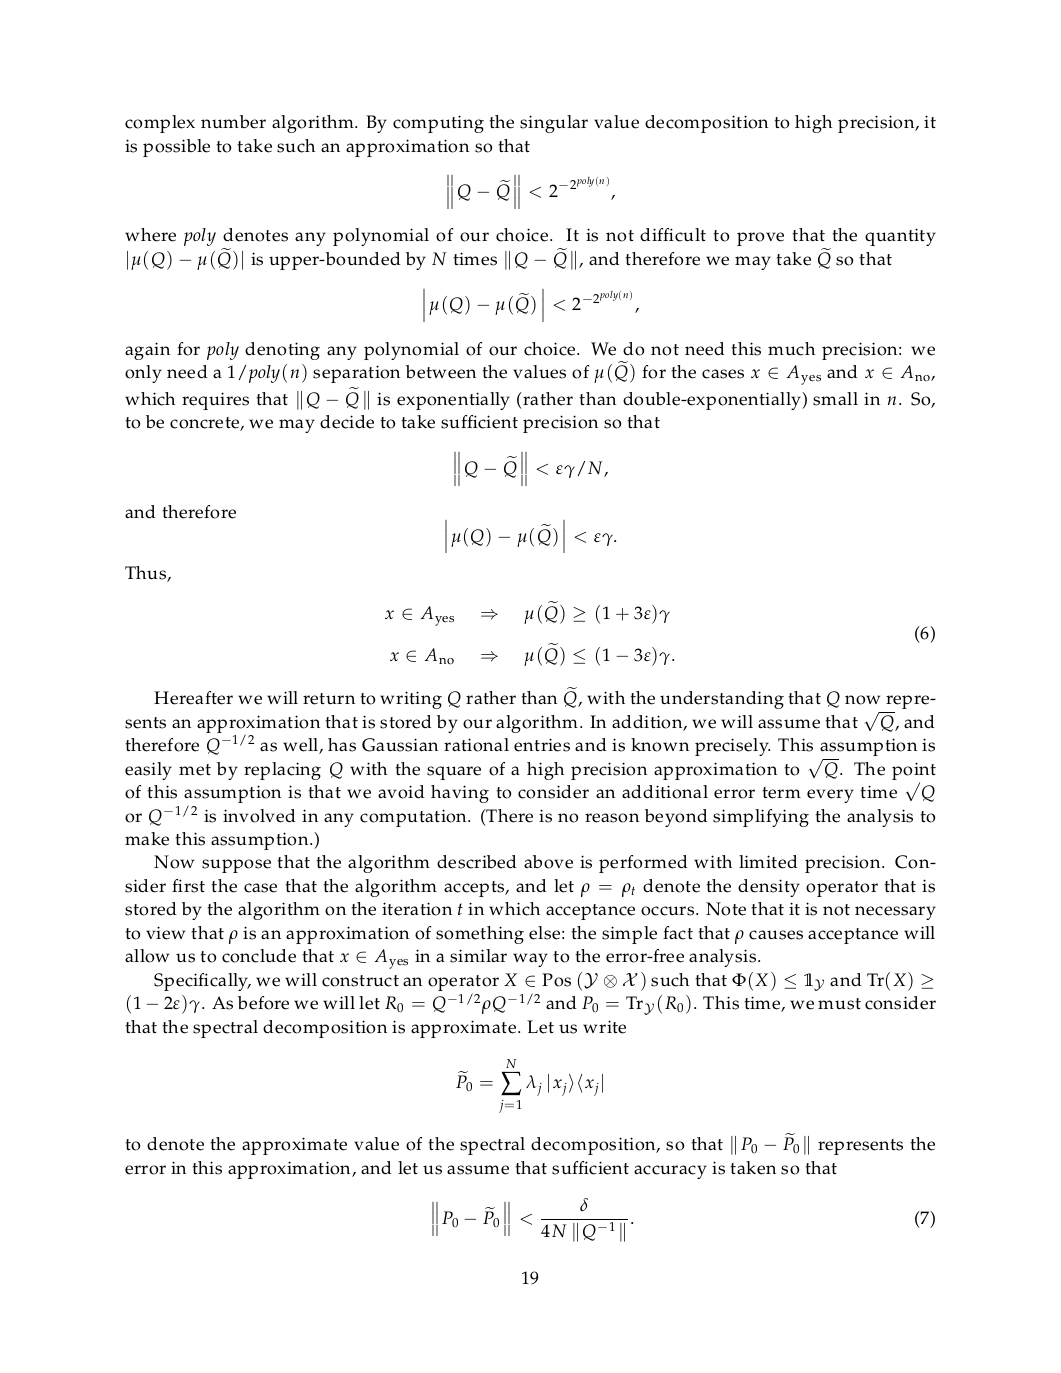formula: (385, 603, 934, 666), (432, 1197, 934, 1241), (456, 1059, 602, 1112), (424, 288, 637, 322), (447, 173, 614, 210), (445, 518, 616, 553), (454, 450, 607, 486)
